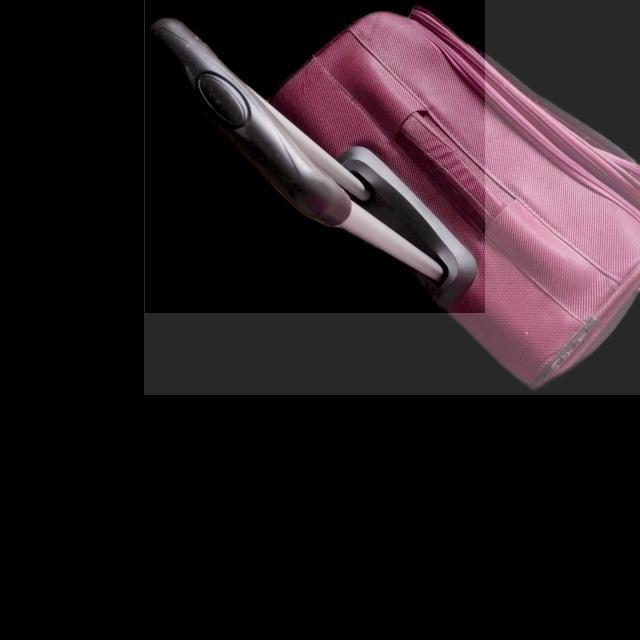Suitcase: (120, 8, 640, 404)
